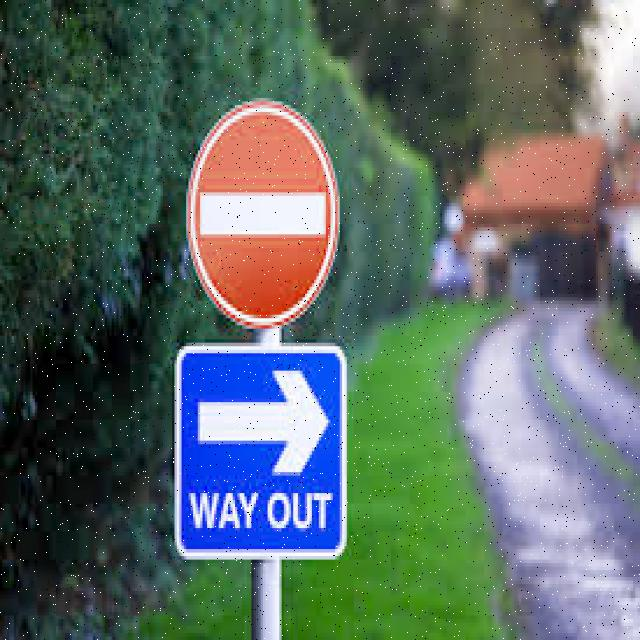no entry: (186, 102, 340, 326)
